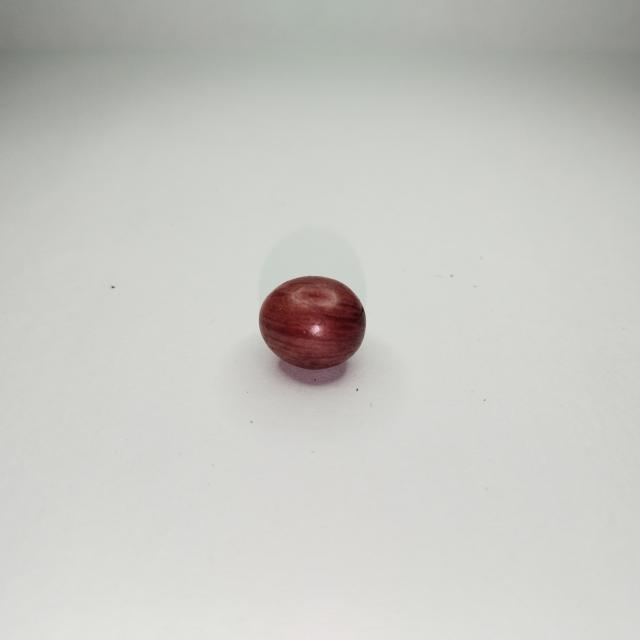Sano: (259, 276, 365, 372)
